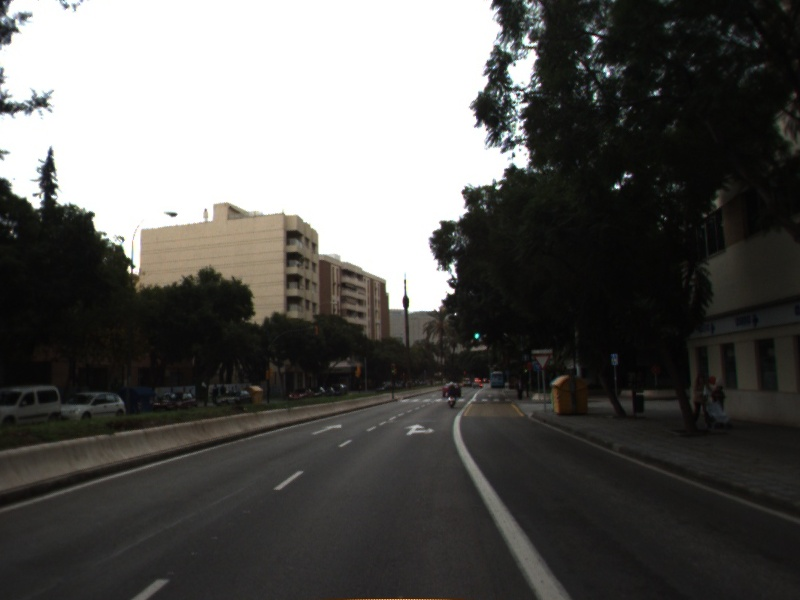STRAIGHT: (309, 422, 345, 437)
STRAIGHT_RIGHT: (401, 421, 437, 437)
